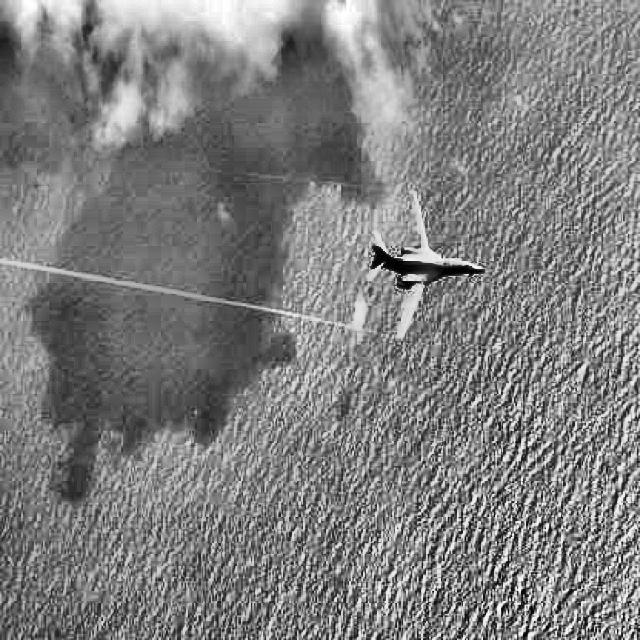B1: (366, 190, 485, 341)
